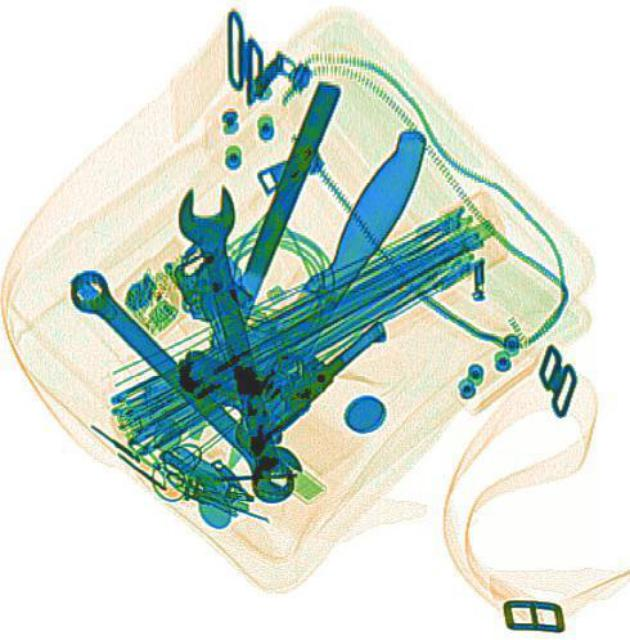Gun: (160, 247, 390, 459)
Knife: (202, 119, 442, 474), (179, 77, 339, 441)
Wrench: (53, 254, 310, 506), (166, 177, 308, 505)
